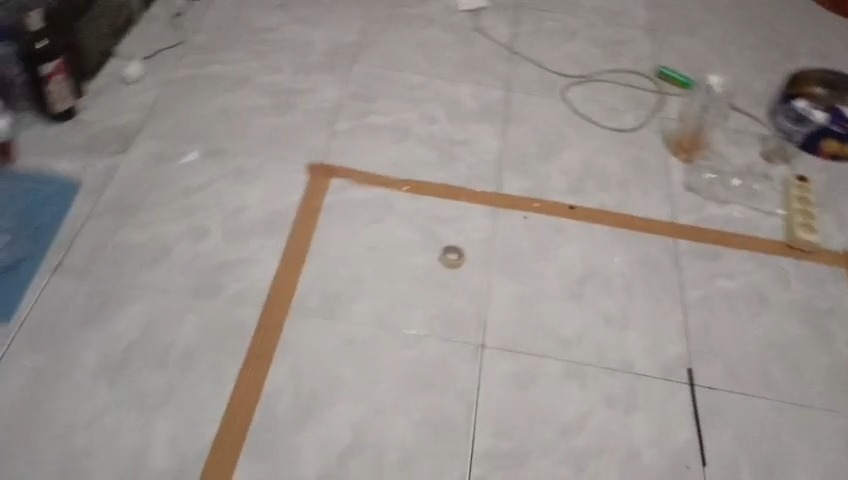floor marking: (200, 164, 847, 479)
